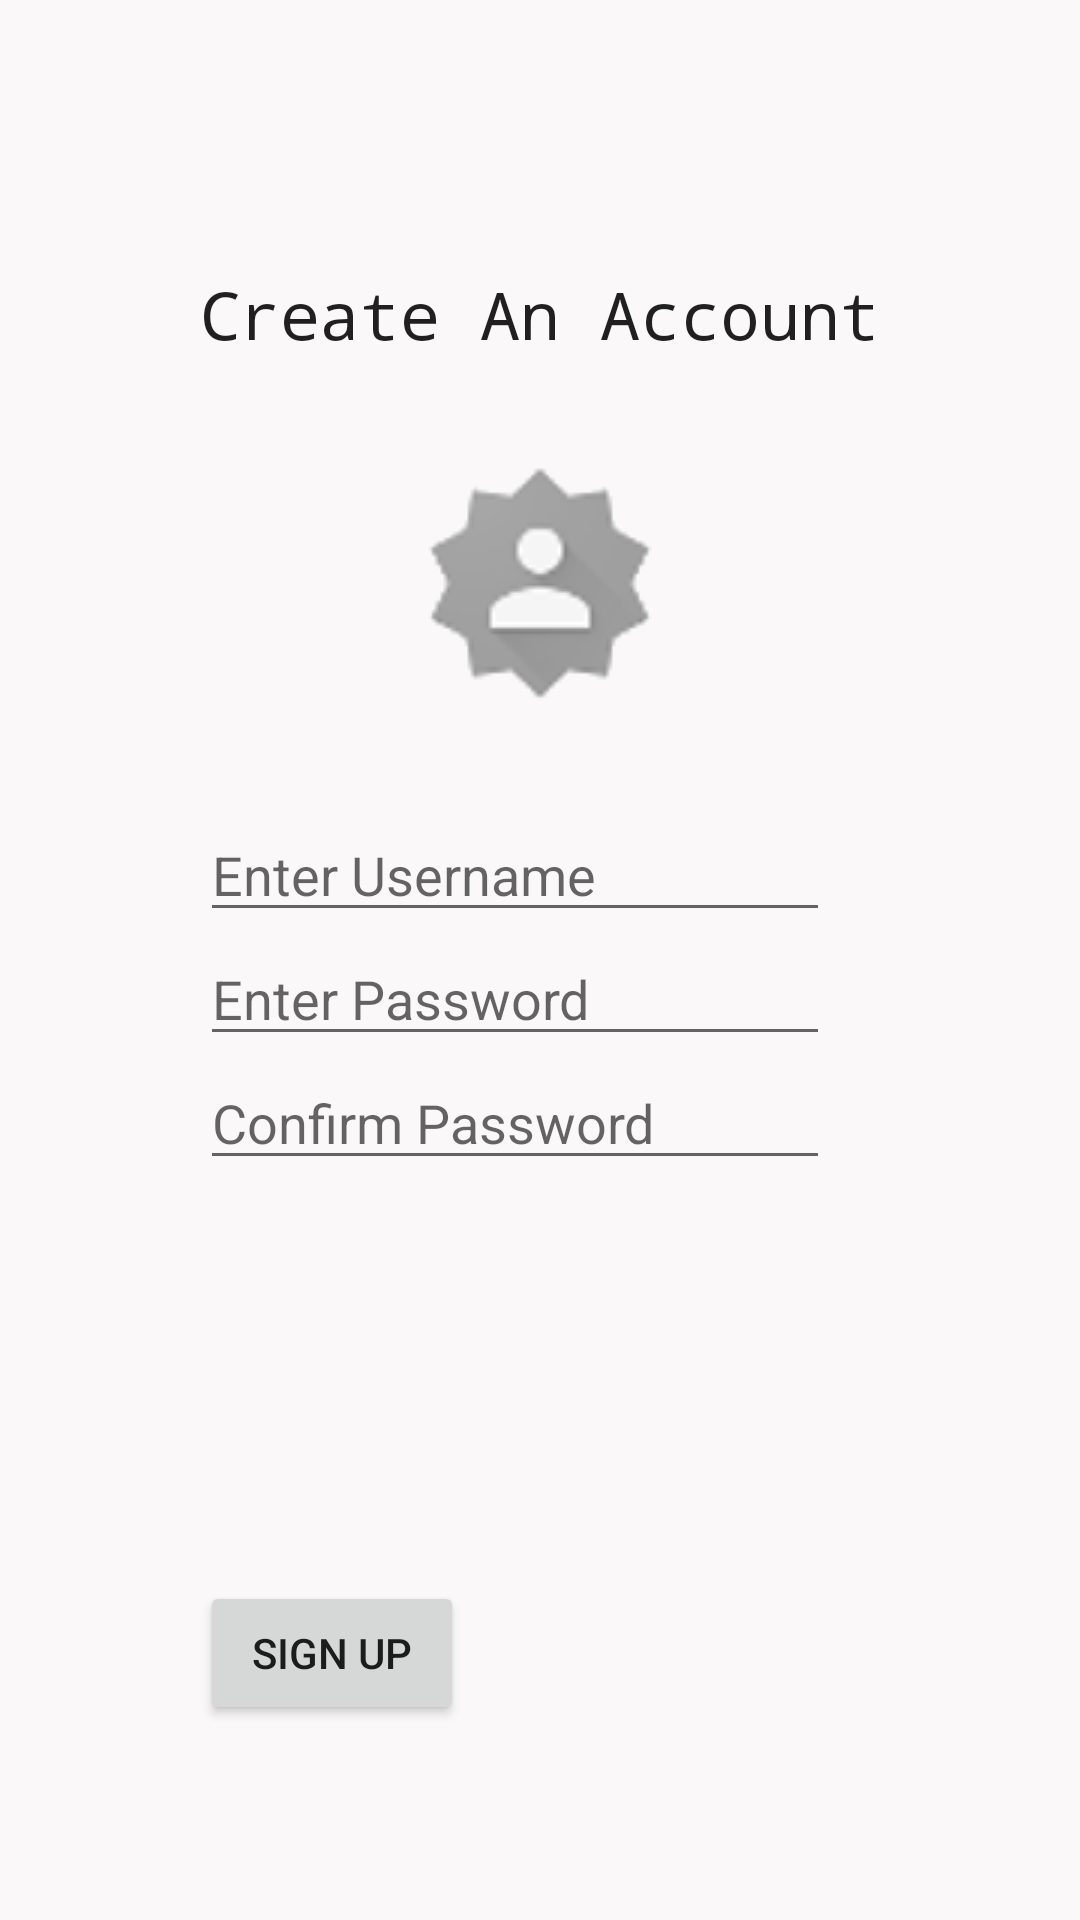

Locate icon controls on the screen. Image size 1080 x 1920, boxes as box=[x1, y1, x2, y2].
createaccicon: box=[431, 469, 649, 697]
